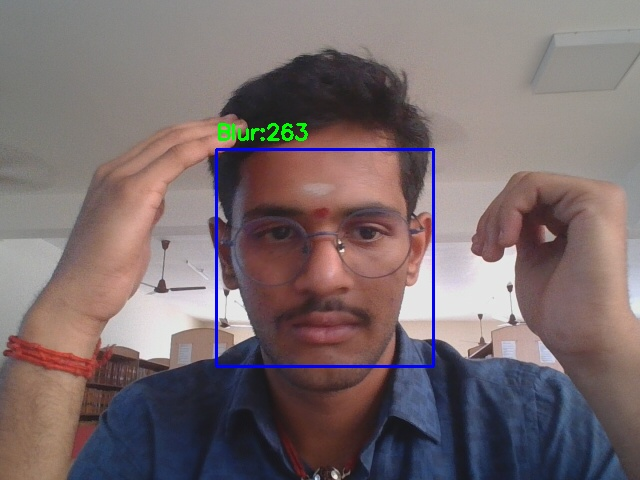real: (216, 149, 433, 366)
